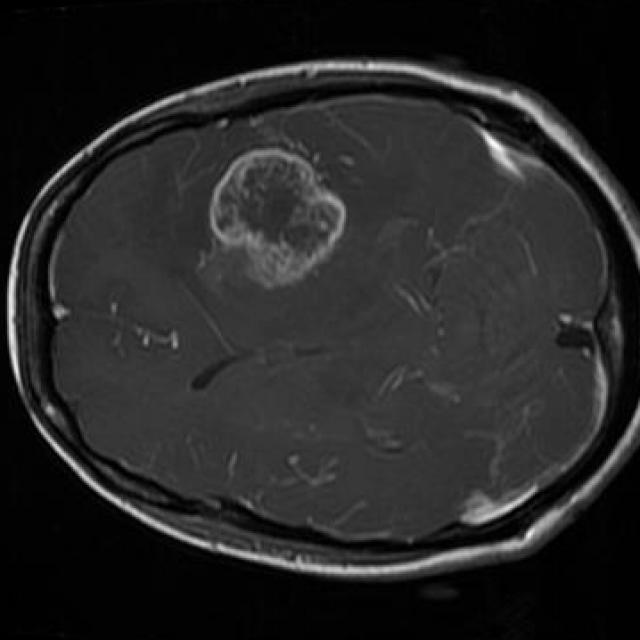glioma: (209, 148, 348, 291)
